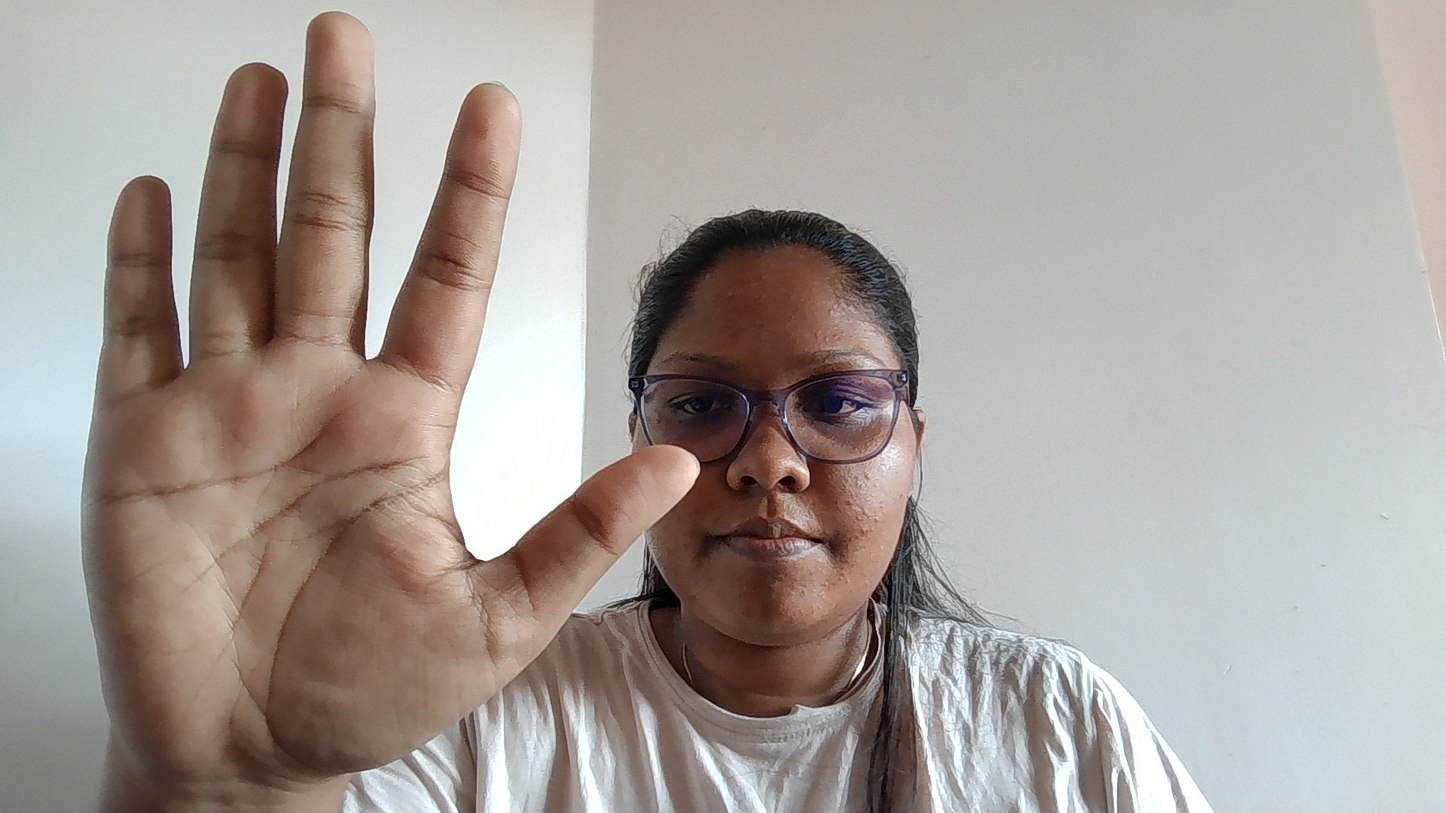Hello: (83, 8, 698, 813)
